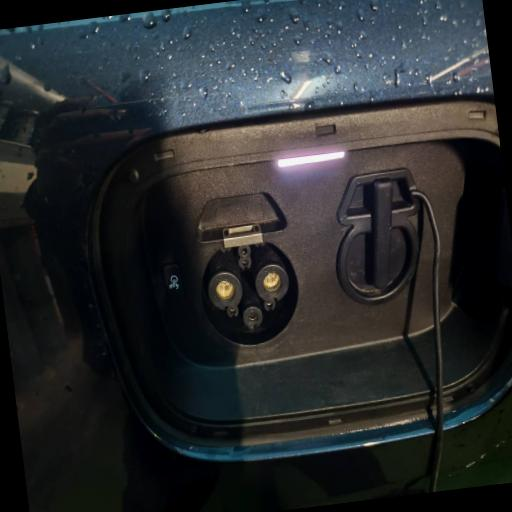DC_hole: (252, 260, 293, 306), (206, 268, 246, 314)
PE: (242, 306, 264, 332)
charging_port: (193, 235, 308, 355)
